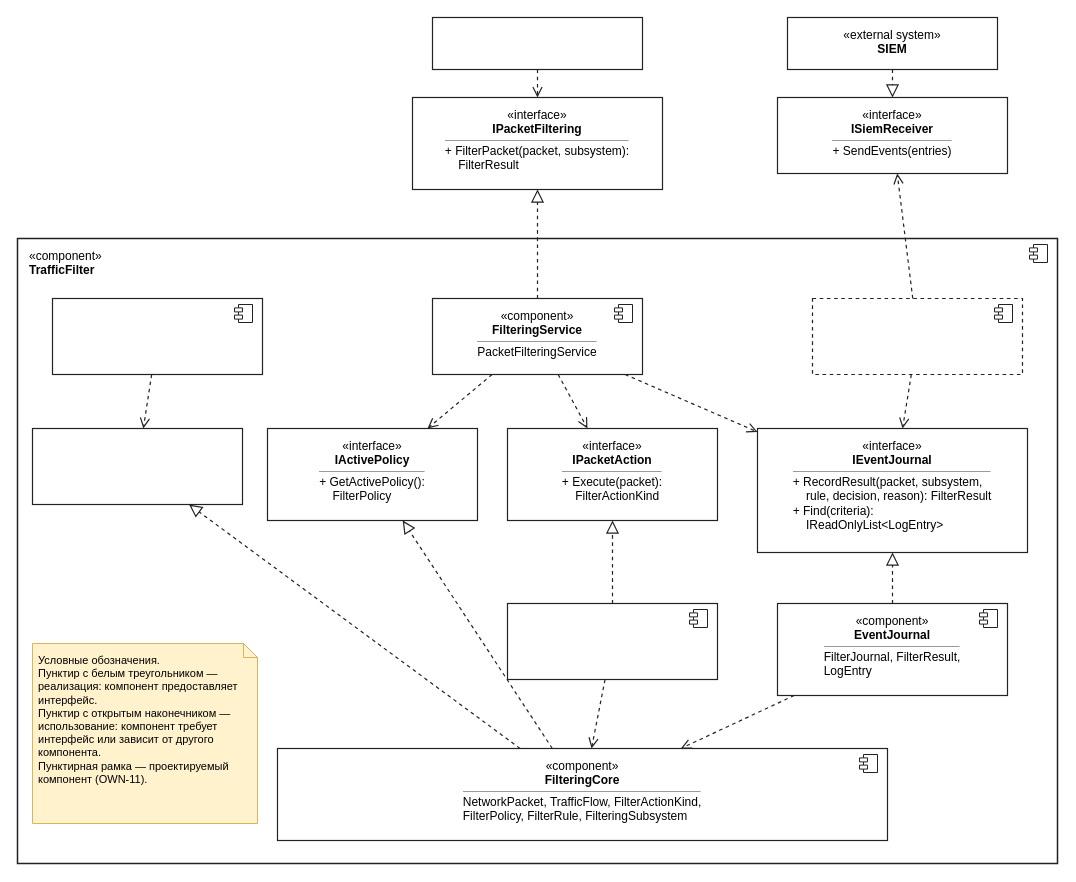
This 1076x882 diagram has some shape labels left out. The box of each missing label's shape, as (x1, y1, x2, y2) in pixels:
«component» Administration Administrator: (51, 297, 263, 375)
«component» EventExporter EventExporter: (811, 297, 1023, 375)
«component» PacketActions AllowAction, DropAction: (506, 602, 718, 680)
«external system» TrafficSource: (431, 16, 643, 70)
«interface» IPolicyAssignment + AssignPolicy(policy): bool: (31, 427, 243, 505)
